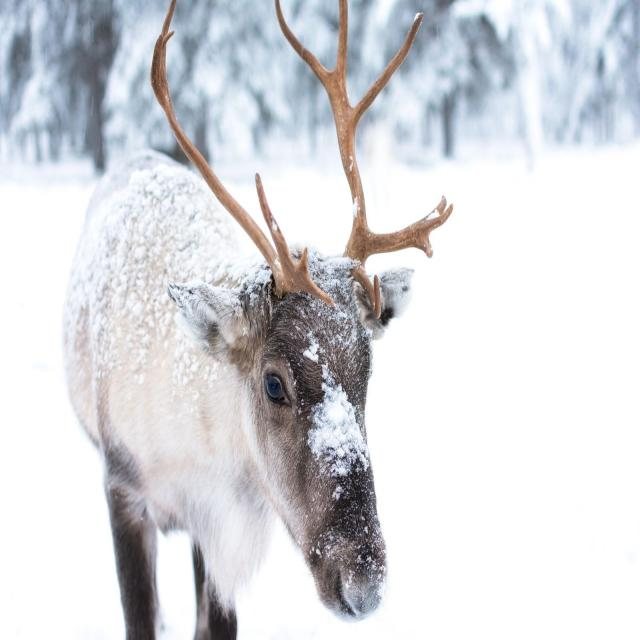Reindeer: (61, 0, 462, 640)
